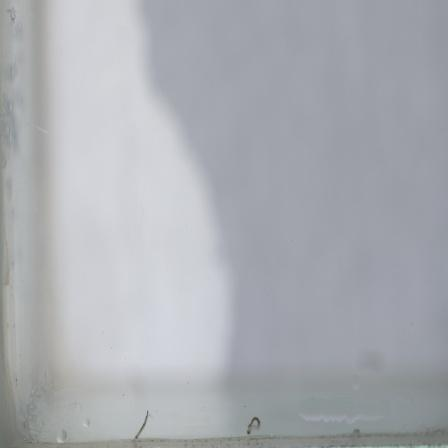Jentik-Nyamuk: (131, 409, 151, 439), (245, 416, 263, 437)
